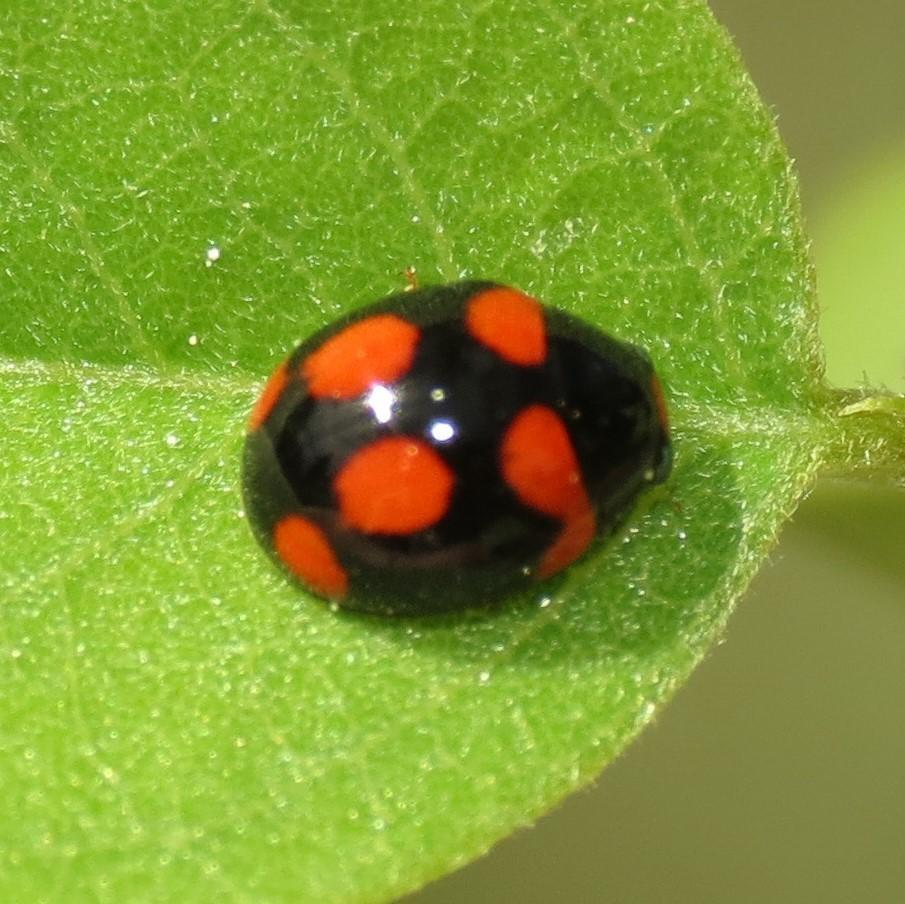ladybug: (236, 276, 679, 621)
